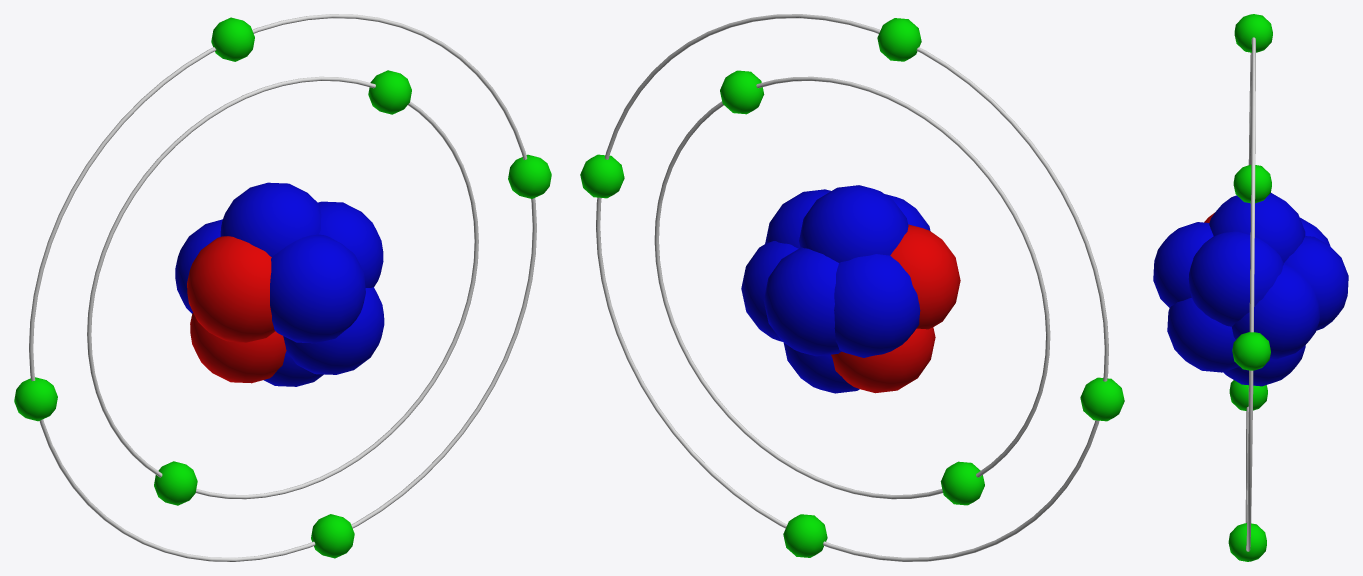
File: carbonElectronStructure_01.fbx
3 views of the same model, side by side, from view 1: azimuth 30°, elevation 25°; view 2: azimuth 150°, elevation 25°; view 3: azimuth 270°, elevation 25° (orthographic). The views are drawn at different scales.
Parts seen in each view (by area): view 1: output0_0_Instance1_1, output0_2_Instance1_1; view 2: output0_0_Instance1_1, output0_2_Instance1_1; view 3: output0_0_Instance1_1, output0_2_Instance1_1.
Part boxes in pixels (x1,y1,x2,y2): output0_0_Instance1_1: (175,182,384,386); output0_2_Instance1_1: (14,14,551,561); output0_0_Instance1_1: (741,185,960,393); output0_2_Instance1_1: (580,14,1124,561); output0_0_Instance1_1: (1153,193,1348,386); output0_2_Instance1_1: (1228,14,1272,561).
Bounding box in the file's own units: 16.96 × 16.96 × 5.98.
